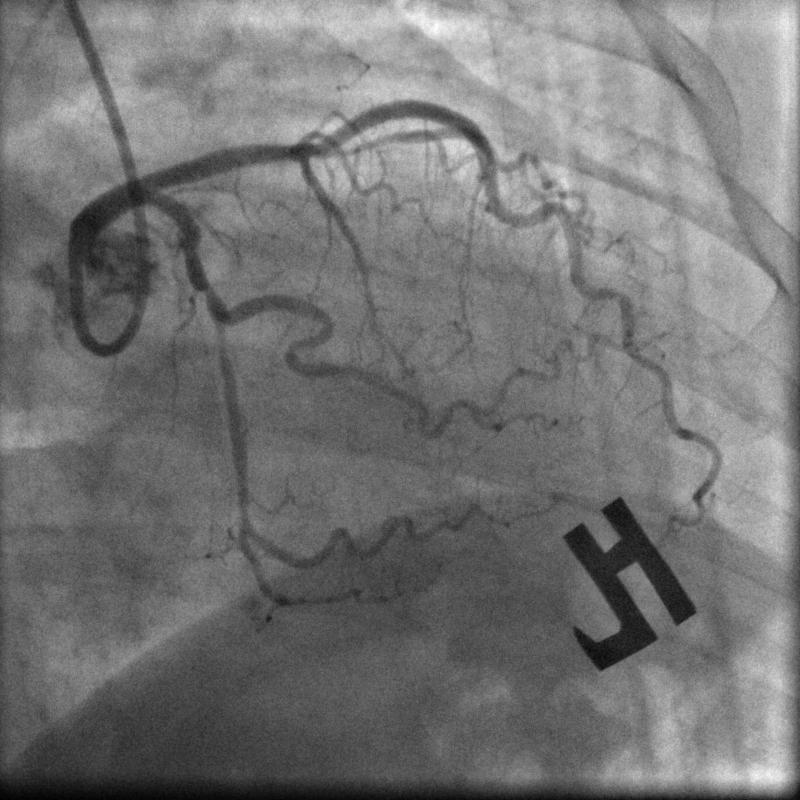Stenosis: (179, 224, 222, 299)
